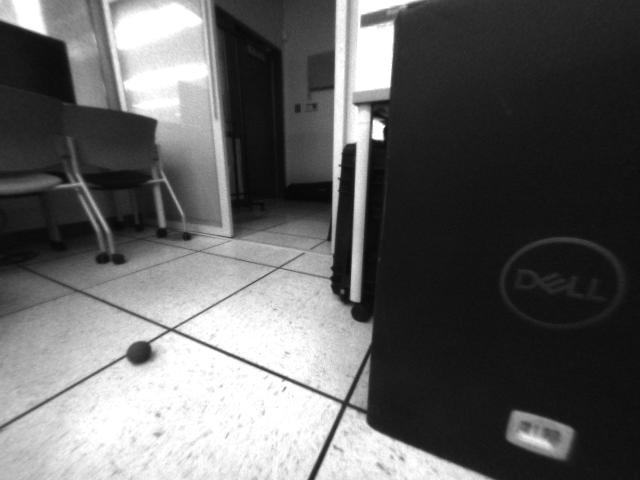dogtoy: (119, 334, 160, 371)
